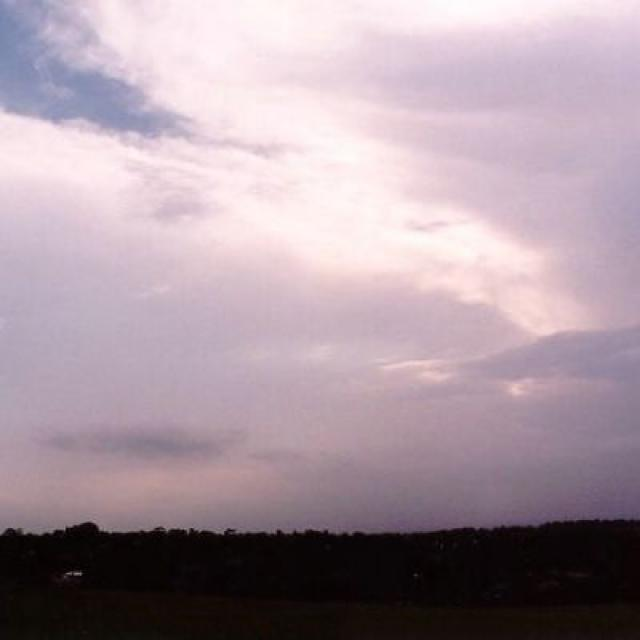St: (1, 15, 640, 436)
